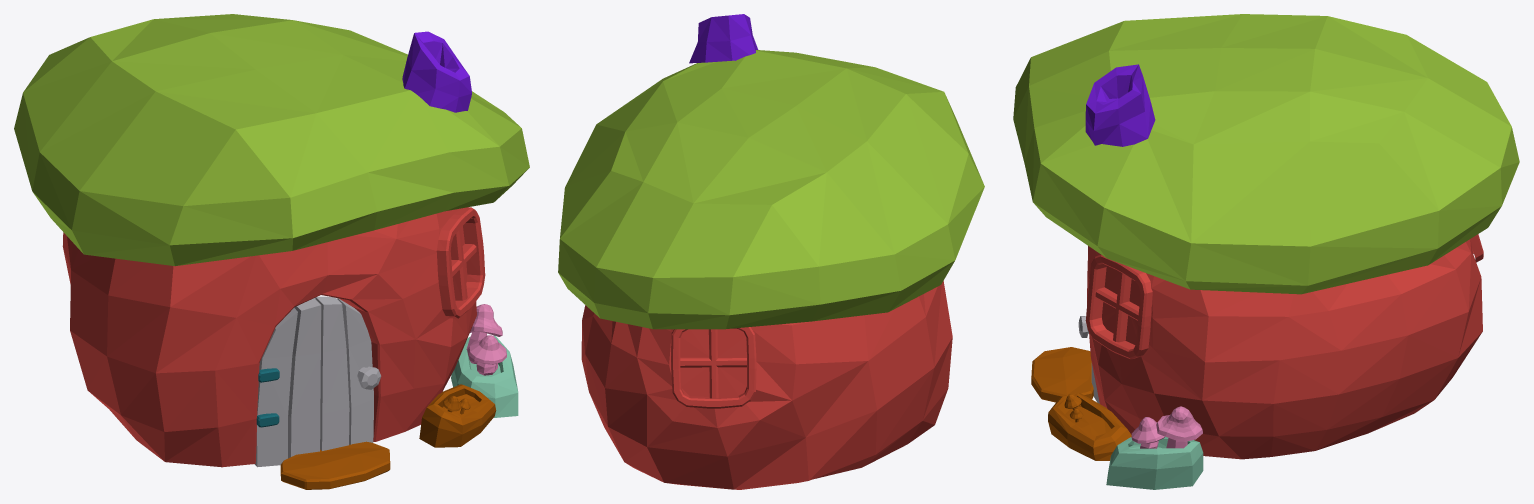
3 views of the same model, side by side, from view 1: azimuth 30°, elevation 25°; view 2: azimuth 150°, elevation 25°; view 3: azimuth 270°, elevation 25° (orthographic). The views are drawn at different scales.
Visible parts, largest first — view 1: world; view 2: world; view 3: world.
Boxes of the visible parts, x1=… form: world: x1=14, y1=14, x2=529, y2=489; world: x1=558, y1=14, x2=984, y2=489; world: x1=1013, y1=14, x2=1519, y2=489.
Size of the model in its own units: 0.858 by 0.7751 by 0.9377.
